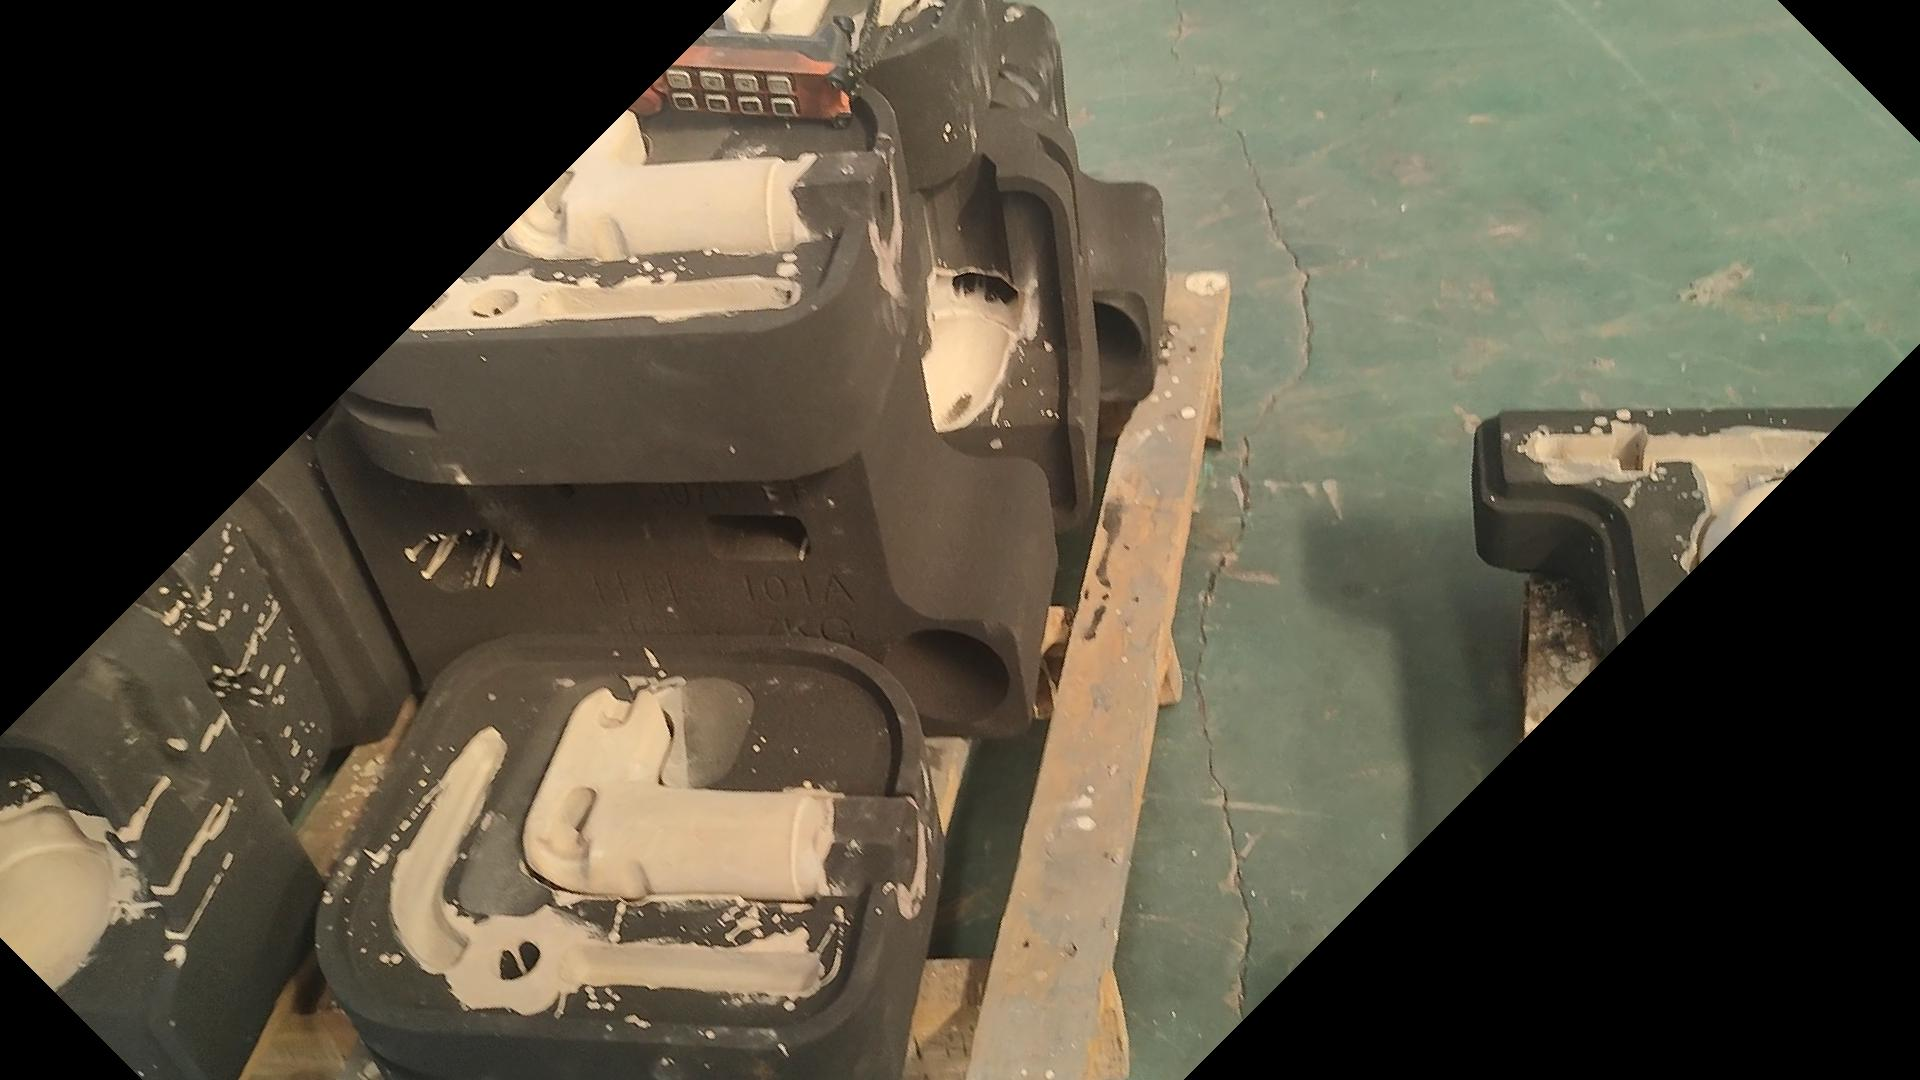pouring hole: (880, 629, 1011, 723), (1062, 299, 1141, 393)
